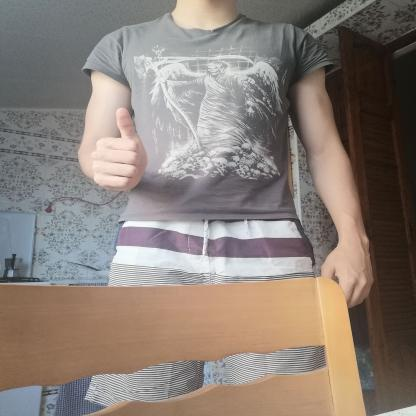ALIF: (80, 99, 155, 200)
